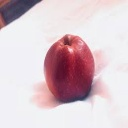apple: (43, 34, 97, 103)
